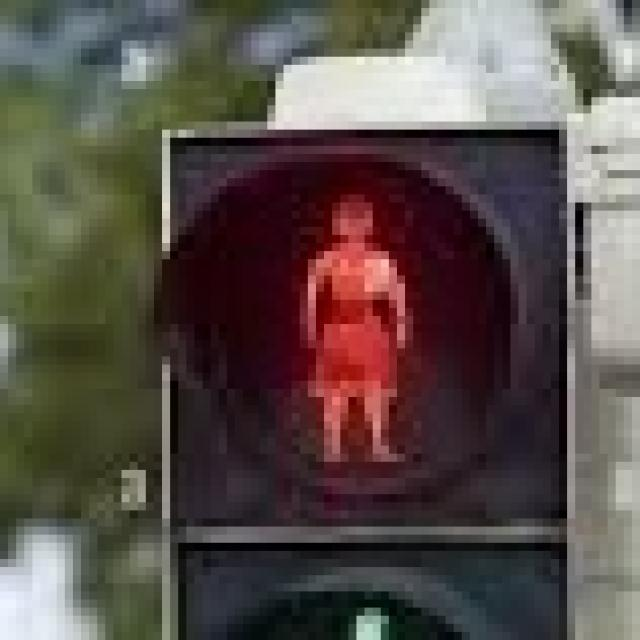red-crossing: (251, 154, 446, 462)
